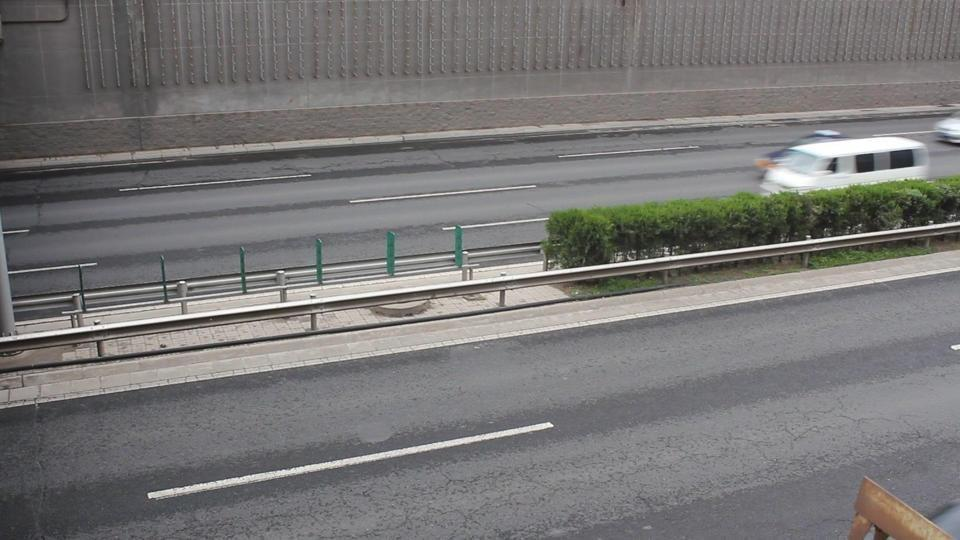car: (753, 131, 931, 194), (933, 111, 960, 146)
